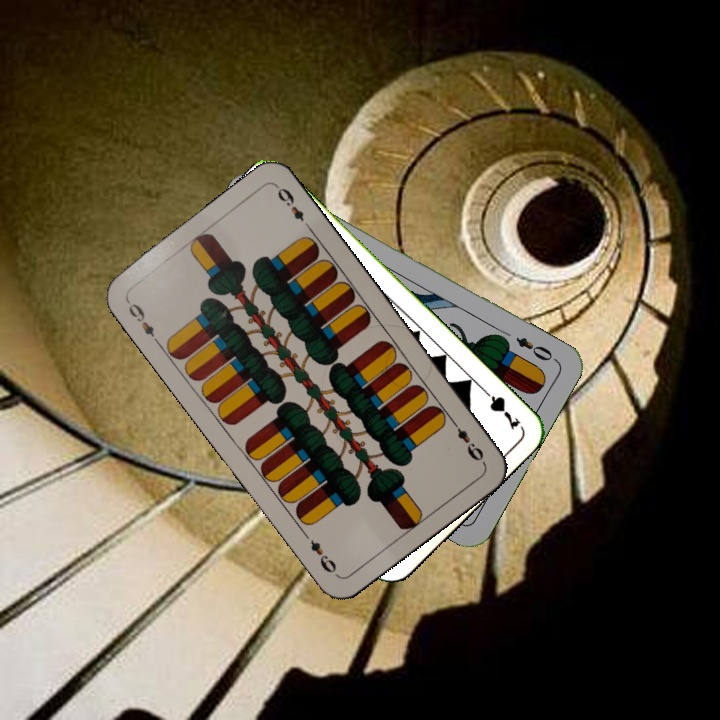E9: (122, 296, 163, 347), (446, 415, 487, 464)
EO: (511, 333, 560, 364)
G7: (476, 383, 523, 433)
